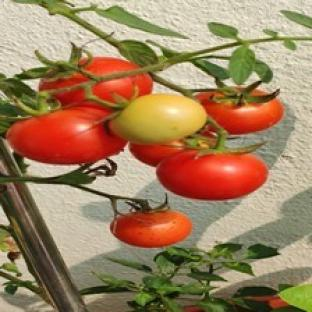Tomato: (6, 108, 126, 164), (156, 151, 268, 200), (111, 94, 206, 144), (197, 91, 284, 135), (111, 209, 192, 247), (92, 73, 153, 103), (129, 140, 185, 167), (251, 296, 289, 309)
